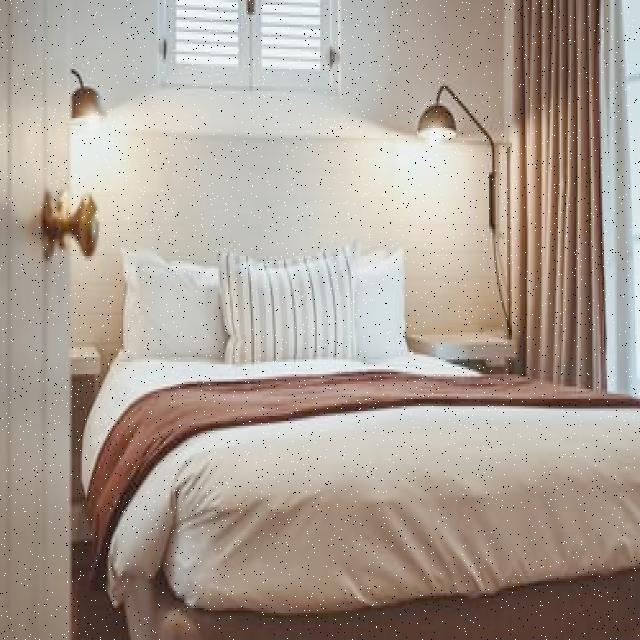bed: (91, 241, 640, 598)
